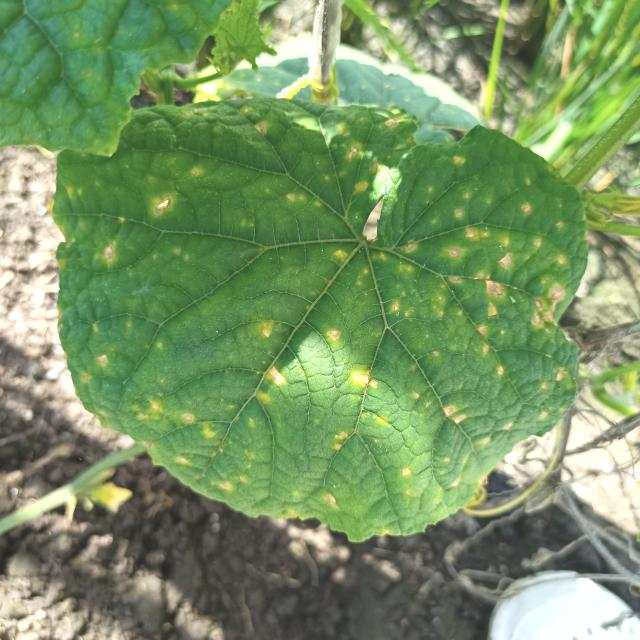disease_cucumber: (68, 98, 574, 518)
